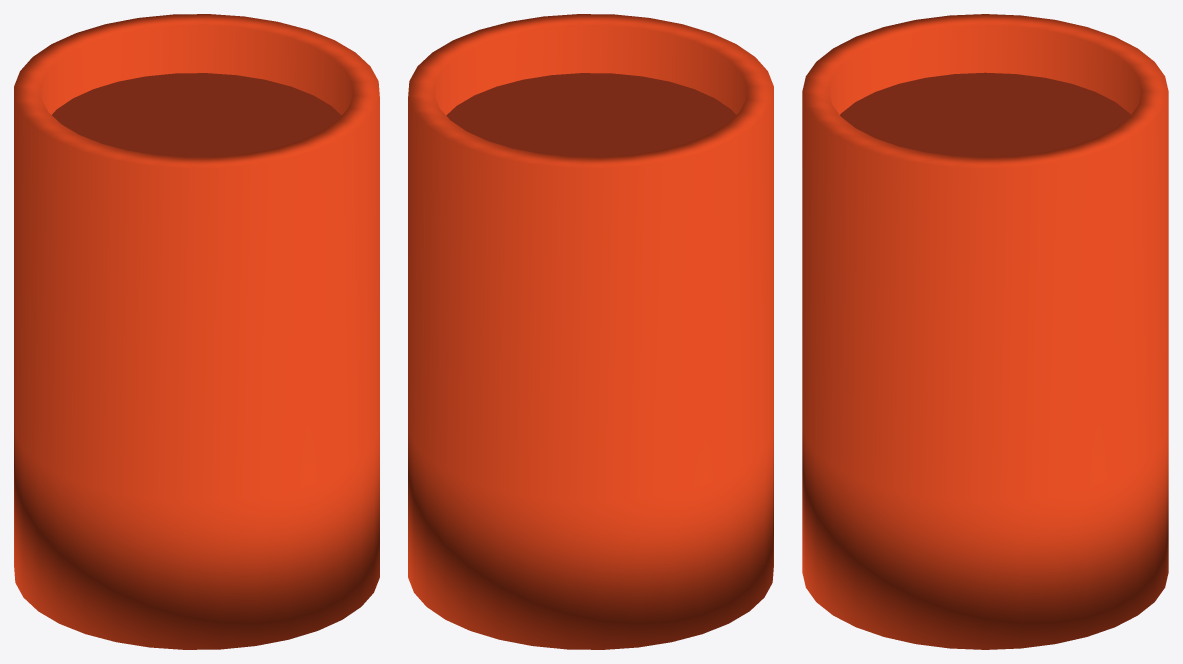
File: 카페라떼.fbx
3 renders of one model, left to right at view 1: azimuth 30°, elevation 25°; view 2: azimuth 150°, elevation 25°; view 3: azimuth 270°, elevation 25°, orthographic.
Parts seen in each view (by area): view 1: 커피잔, 카페라뗴; view 2: 커피잔, 카페라뗴; view 3: 커피잔, 카페라뗴.
Boxes of the visible parts, x1,y1,x2,y2 form: 커피잔: (14,14,379,649); 카페라뗴: (52,73,341,157); 커피잔: (408,14,773,649); 카페라뗴: (446,73,735,157); 커피잔: (802,14,1168,649); 카페라뗴: (840,72,1130,157).
Size of the model in its own units: 200 by 290 by 200.
